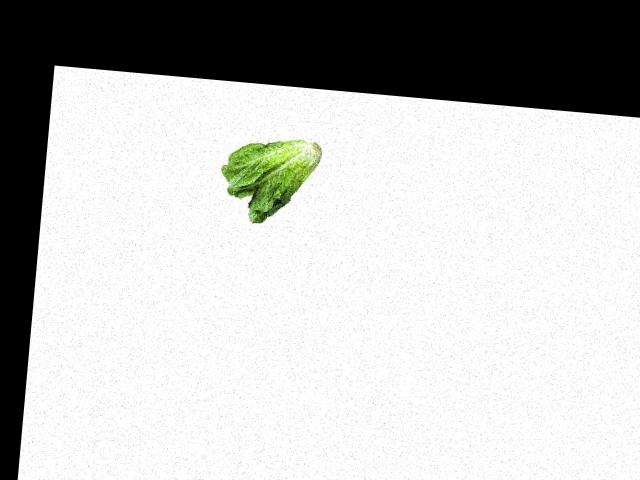lettuce: (217, 128, 320, 233)
